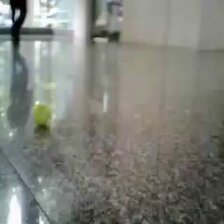tennis: (32, 103, 50, 126)
